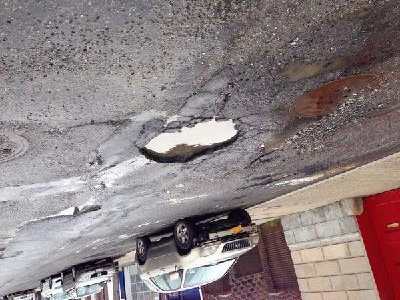pothole: (136, 114, 240, 165), (275, 54, 348, 85), (239, 170, 299, 191), (55, 201, 103, 218)
